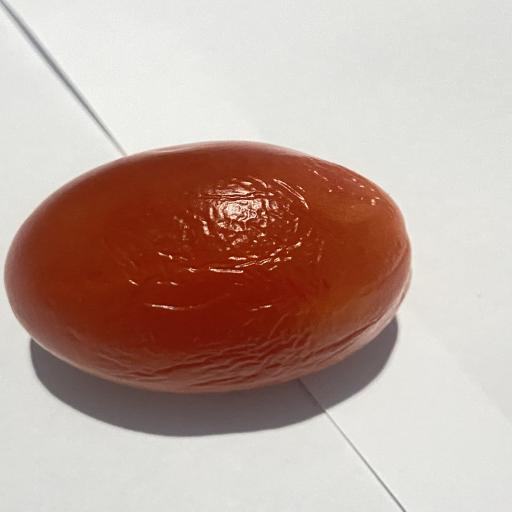spoiled: (5, 141, 411, 393)
